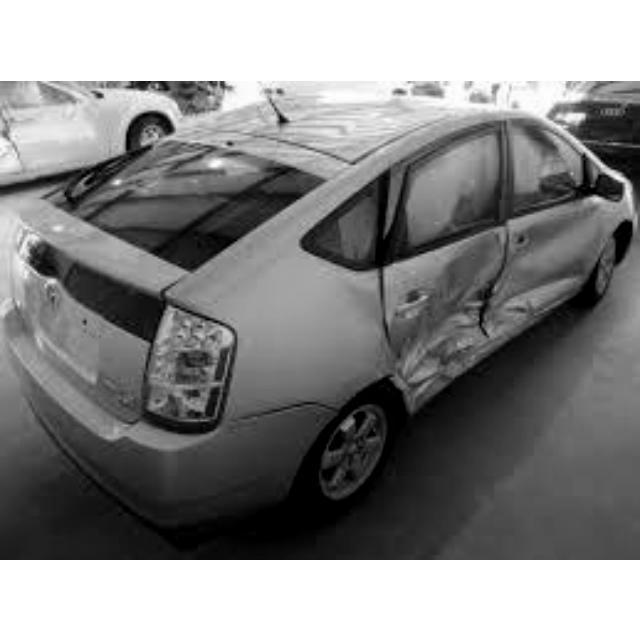doorouter-dent: (379, 246, 500, 384), (500, 204, 588, 315)
